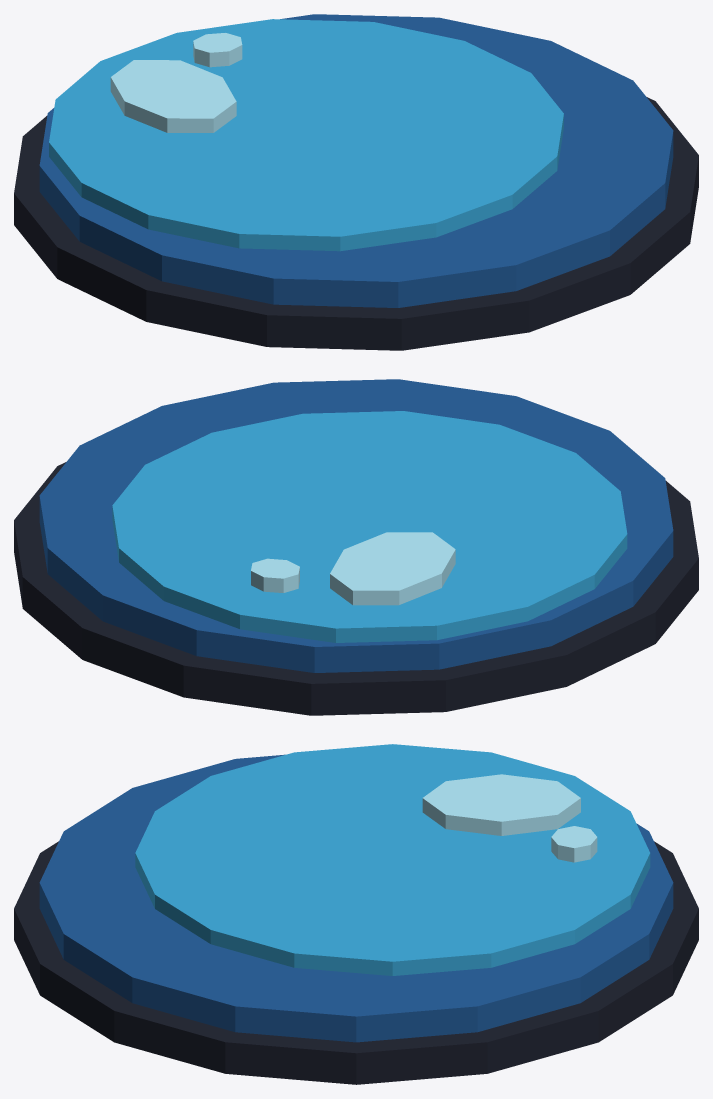
File: dragon_orb.fbx
3 views of the same model, one above another, from view 1: azimuth 30°, elevation 25°; view 2: azimuth 150°, elevation 25°; view 3: azimuth 270°, elevation 25° (orthographic).
Visible parts, largest first — view 1: dragon_orb; view 2: dragon_orb; view 3: dragon_orb.
Boxes of the visible parts, bbox=[...] form: dragon_orb: bbox=[14, 14, 698, 350]; dragon_orb: bbox=[14, 379, 698, 715]; dragon_orb: bbox=[14, 744, 698, 1084].
Size of the model in its own units: 1.08 by 0.155 by 1.08.
Materials: 1 (1 with a texture image).
